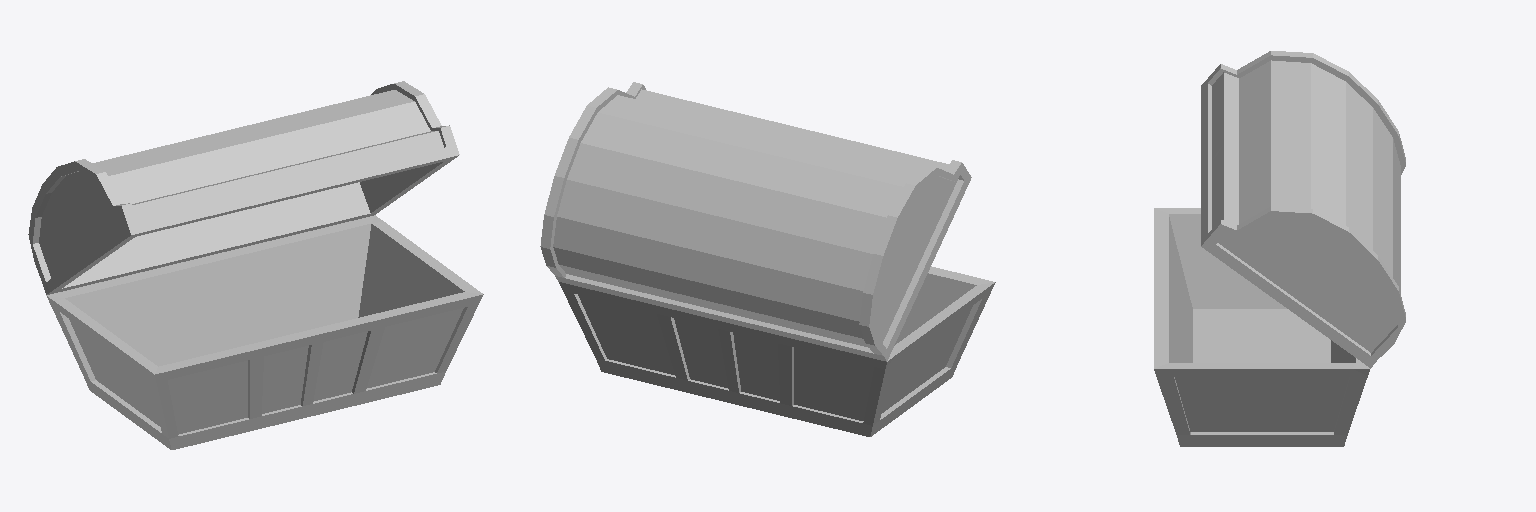
Rendered from DS_Chest_Opening.obj.
The picture shows the model from 3 angles: view 1: azimuth 30°, elevation 25°; view 2: azimuth 150°, elevation 25°; view 3: azimuth 270°, elevation 25°; orthographic projection.
Parts seen in each view (by area): view 1: default; view 2: default; view 3: default.
Boxes of the visible parts, x1=… form: default: x1=28, y1=81, x2=483, y2=449; default: x1=540, y1=82, x2=995, y2=436; default: x1=1154, y1=51, x2=1405, y2=446.
Size of the model in its own units: 3.65 by 2.65 by 2.43.